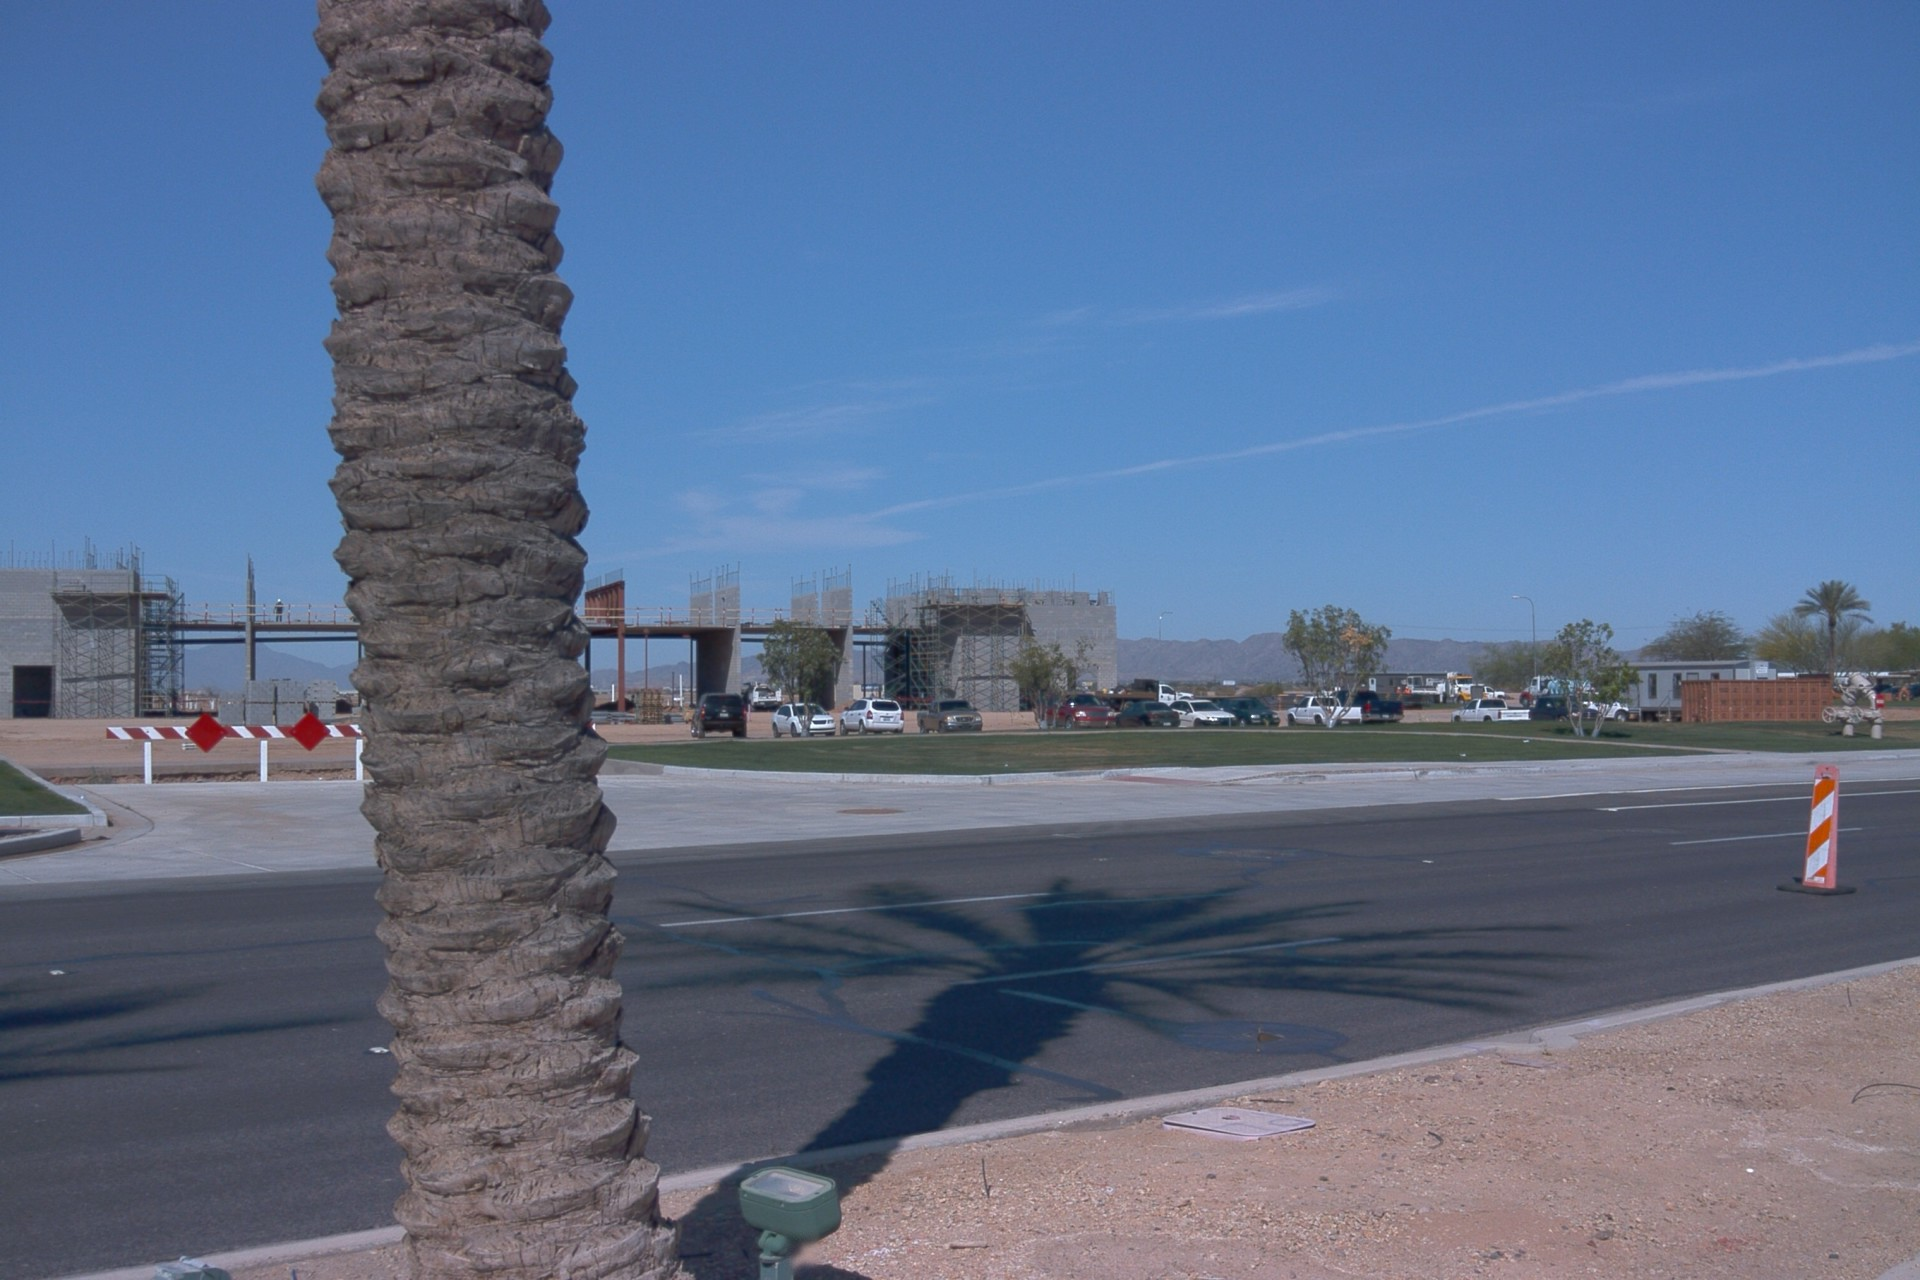TYPE_PEDESTRIAN: (1401, 687, 1411, 696), (1395, 687, 1404, 696)
TYPE_VEHICLE: (1530, 686, 1633, 726), (1093, 679, 1196, 715), (1033, 689, 1113, 733), (1406, 672, 1490, 713), (1328, 686, 1406, 727), (692, 691, 752, 741), (913, 693, 981, 736), (838, 694, 903, 738), (1282, 694, 1361, 728), (771, 702, 836, 743), (1522, 678, 1596, 714), (1113, 697, 1181, 733), (1164, 698, 1232, 732), (1210, 697, 1276, 730), (1511, 695, 1609, 717), (1449, 697, 1529, 718), (742, 682, 789, 715), (1868, 685, 1890, 699), (1909, 687, 1920, 703)
